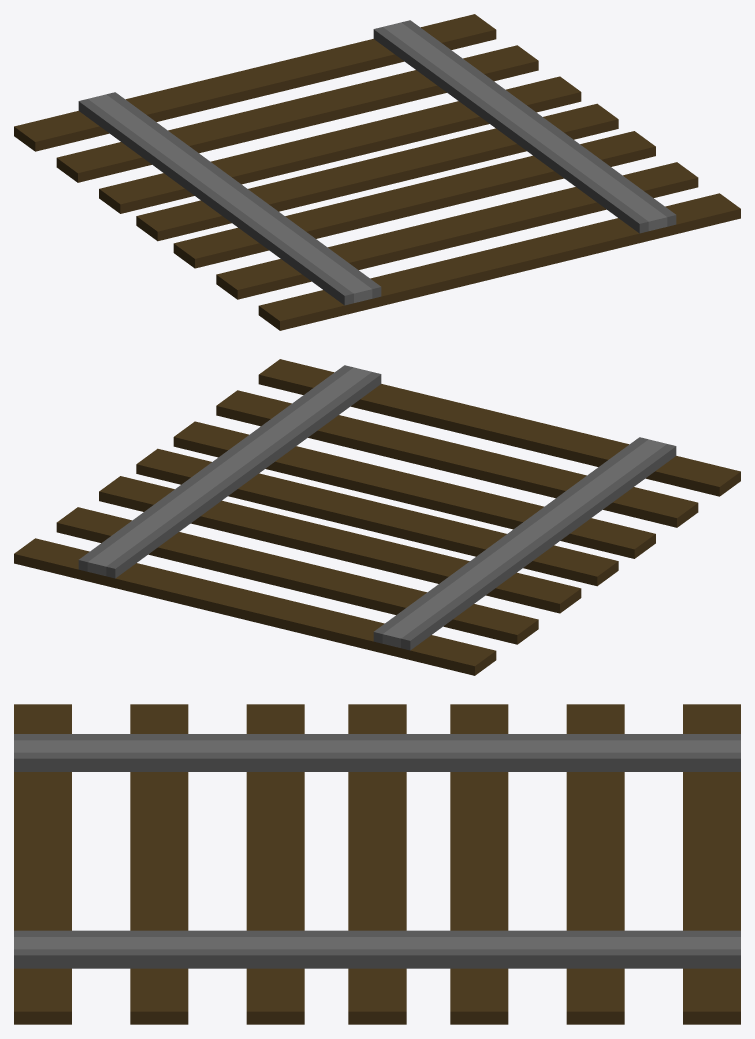
The model's file is rails.obj.
The picture shows the model from 3 angles, top to bottom: view 1: azimuth 30°, elevation 25°; view 2: azimuth 150°, elevation 25°; view 3: azimuth 270°, elevation 25°; orthographic projection. The views are drawn at different scales.
Size of the model in its own units: 5 by 0.2 by 5.
Materials: 1 (1 with a texture image).
